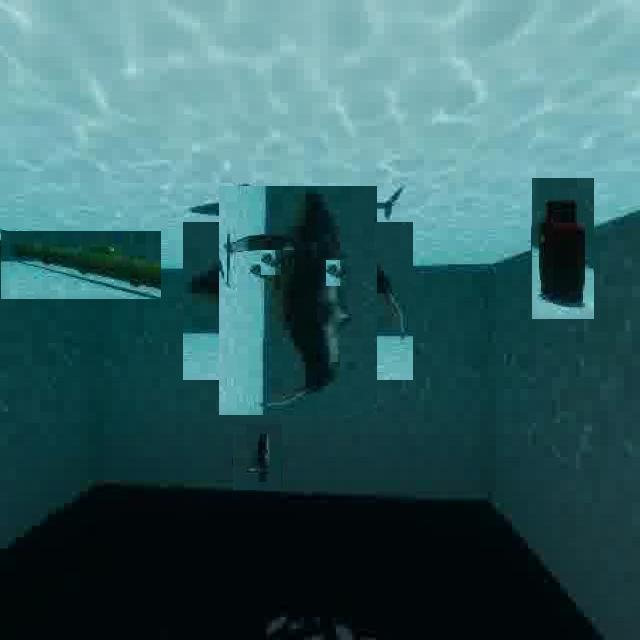Cylinder: (531, 178, 594, 320)
Pipe: (0, 231, 161, 300)
Shell: (260, 252, 282, 274)
Whale: (201, 204, 395, 398), (228, 428, 286, 486)
